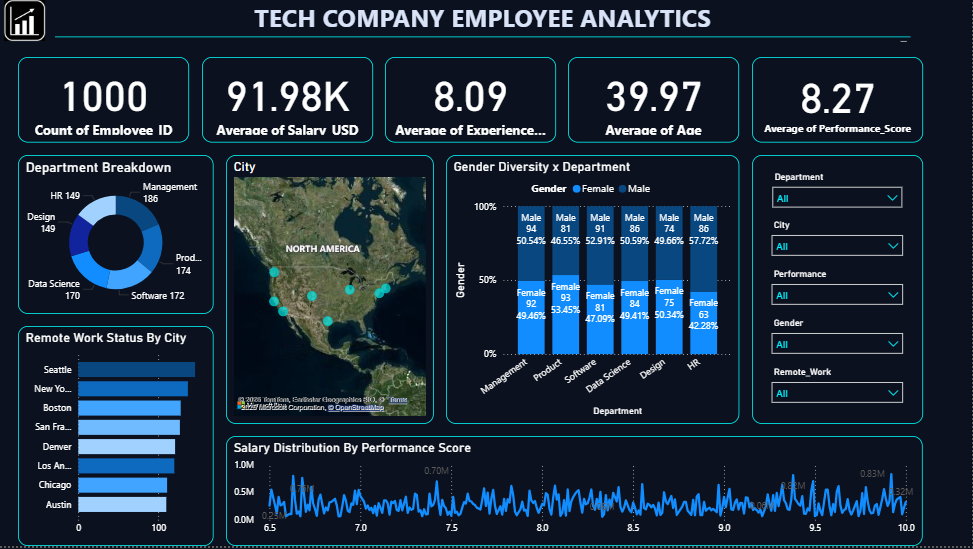

What the dashboard file says about the page in this screenshot:
{"tool":"powerbi","page":{"name":"Page 1","canvas":[1280,720],"ordinal":0},"visuals":[{"type":"textbox","box":[80,0,1120,64],"z":0},{"type":"image","box":[0,0,80,64],"z":1000},{"type":"card","fields":{"Values":["CountNonNull(tech_company_employee_data_1000.Employee_ID)"]},"box":[32,80,224,112],"z":2000},{"type":"card","fields":{"Values":["Avg(tech_company_employee_data_1000.Salary_USD)"]},"box":[272,80,224,112],"z":3000},{"type":"card","fields":{"Values":["Avg(tech_company_employee_data_1000.Experience_Years)"]},"box":[512,80,224,112],"z":4000},{"type":"card","fields":{"Values":["Avg(tech_company_employee_data_1000.Age)"]},"box":[752,80,224,112],"z":5000},{"type":"card","fields":{"Values":["Avg(tech_company_employee_data_1000.Performance_Score)"]},"box":[992,80,224,112],"z":6000},{"type":"donutChart","title":"Department Breakdown","fields":{"Category":["tech_company_employee_data_1000.Department"],"Y":["CountNonNull(tech_company_employee_data_1000.Employee_ID)"]},"box":[32,208,256,208],"z":7000},{"type":"lineChart","title":"Salary Distribution By Performance Score","fields":{"Category":["tech_company_employee_data_1000.Performance_Score"],"Y":["Sum(tech_company_employee_data_1000.Salary_USD)"]},"box":[304,576,912,144],"z":8000},{"type":"shape","box":[992,208,224,352],"z":9000},{"type":"slicer","fields":{"Values":["tech_company_employee_data_1000.Department"]},"box":[1008,224,192,64],"z":10000},{"type":"slicer","fields":{"Values":["tech_company_employee_data_1000.City"]},"box":[1008,288,192,64],"z":11000},{"type":"slicer","fields":{"Values":["tech_company_employee_data_1000.Performance_Score"]},"box":[1008,352,192,64],"z":12000},{"type":"slicer","fields":{"Values":["tech_company_employee_data_1000.Gender"]},"box":[1008,416,192,64],"z":13000},{"type":"slicer","fields":{"Values":["tech_company_employee_data_1000.Remote_Work"]},"box":[1008,480,192,64],"z":14000},{"type":"hundredPercentStackedColumnChart","title":"Gender Diversity x Department","fields":{"Category":["tech_company_employee_data_1000.Department"],"Series":["tech_company_employee_data_1000.Gender"],"Y":["CountNonNull(tech_company_employee_data_1000.Gender)"]},"box":[592,208,384,352],"z":15000},{"type":"map","fields":{"Category":["tech_company_employee_data_1000.City"]},"box":[304,208,272,352],"z":16000},{"type":"barChart","title":"Remote Work Status By City","fields":{"Y":["CountNonNull(tech_company_employee_data_1000.Remote_Work)"],"Category":["tech_company_employee_data_1000.City"]},"box":[32,432,256,288],"z":17000}]}

Visuals, with their boxes in screenshot pixels (x1, y1, x2, y2), scaled from the page's 1280x720 canvas onto the 973x549 screenshot:
textbox: [61, 0, 912, 49]
image: [0, 0, 61, 49]
card - CountNonNull(tech_company_employee_data_1000.Employee_ID): [24, 61, 195, 146]
card - Avg(tech_company_employee_data_1000.Salary_USD): [207, 61, 377, 146]
card - Avg(tech_company_employee_data_1000.Experience_Years): [389, 61, 559, 146]
card - Avg(tech_company_employee_data_1000.Age): [572, 61, 742, 146]
card - Avg(tech_company_employee_data_1000.Performance_Score): [754, 61, 924, 146]
"Department Breakdown" donutChart: [24, 159, 219, 317]
"Salary Distribution By Performance Score" lineChart: [231, 439, 924, 548]
shape: [754, 159, 924, 427]
slicer - tech_company_employee_data_1000.Department: [766, 171, 912, 220]
slicer - tech_company_employee_data_1000.City: [766, 220, 912, 268]
slicer - tech_company_employee_data_1000.Performance_Score: [766, 268, 912, 317]
slicer - tech_company_employee_data_1000.Gender: [766, 317, 912, 366]
slicer - tech_company_employee_data_1000.Remote_Work: [766, 366, 912, 415]
"Gender Diversity x Department" hundredPercentStackedColumnChart: [450, 159, 742, 427]
map - tech_company_employee_data_1000.City: [231, 159, 438, 427]
"Remote Work Status By City" barChart: [24, 329, 219, 548]
